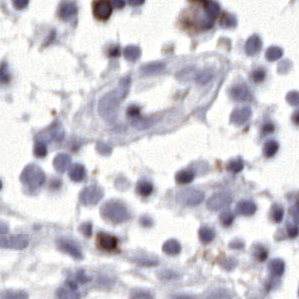Lymphocyte: (96, 230, 122, 255)
